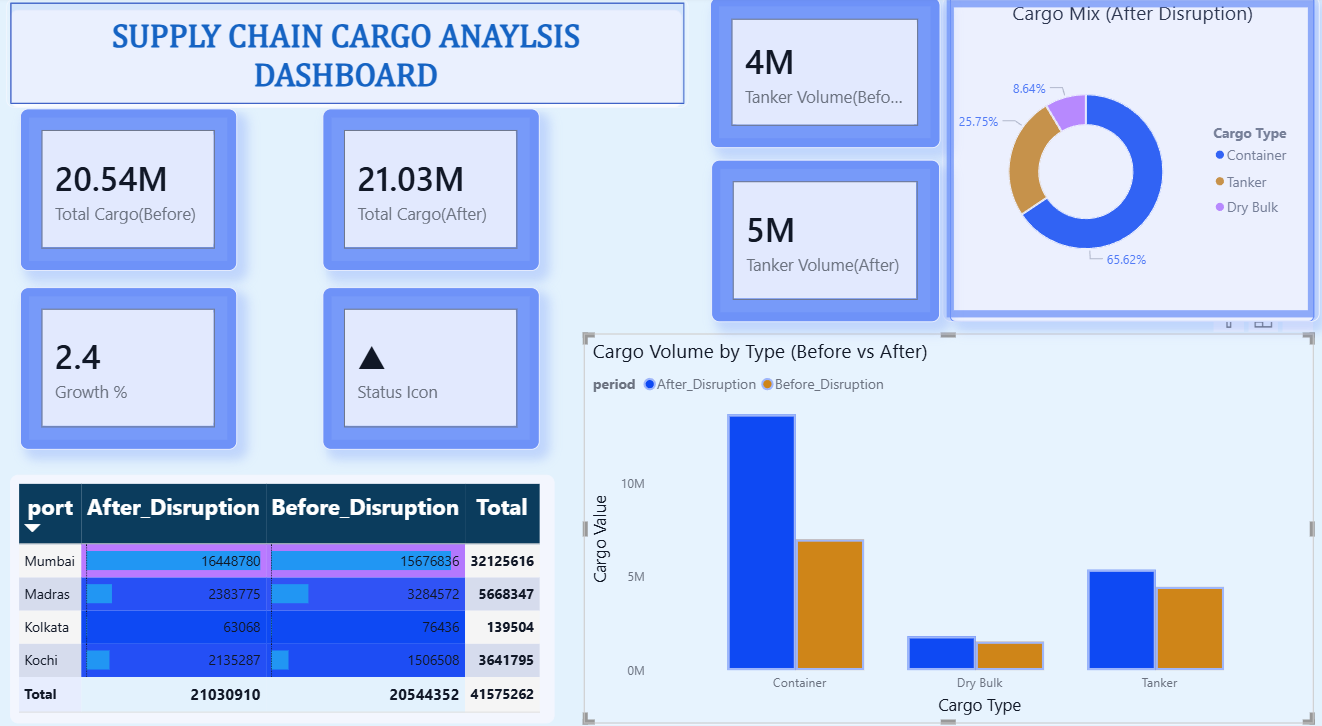

The dashboard page shown, as its layout file describes it:
{"tool":"powerbi","page":{"name":"SUPPLY CHAIN CARGO ANAYLSIS","canvas":[1280,720],"ordinal":0},"visuals":[{"type":"textbox","box":[9.6,13.7,649.1,94.7],"z":0},{"type":"cardVisual","fields":{"Data":["cargo powerbi_export.Total Before"]},"box":[19.2,108.4,209.9,156.4],"z":1000},{"type":"lineClusteredColumnComboChart","title":"Cargo Volume by Type (Before vs After)","fields":{"Category":["CargoTypes.Cargo Type"],"Y":["CargoTypes.Cargo Value"],"Series":["cargo powerbi_export.period"]},"box":[564,325.2,703.9,377.4],"z":2000},{"type":"pivotTable","fields":{"Rows":["cargo powerbi_export.port"],"Columns":["cargo powerbi_export.period"],"Values":["cargo powerbi_export.Total Cargo"]},"box":[9.6,462.4,525.6,240.1],"z":3000},{"type":"cardVisual","fields":{"Data":["cargo powerbi_export.Total After"]},"box":[311.5,108.4,209.9,156.4],"z":4000},{"type":"cardVisual","fields":{"Data":["cargo powerbi_export.Status Icon"]},"box":[311.5,281.3,209.9,156.4],"z":5000},{"type":"cardVisual","fields":{"Data":["cargo powerbi_export.Result %"]},"box":[19.2,281.3,209.9,156.4],"z":6000},{"type":"donutChart","title":"Cargo Mix (After Disruption)","fields":{"Y":["AfterCargoMix.Cargo Mix Value"],"Category":["AfterCargoMix.Cargo Type"]},"box":[916.6,0,351.3,314.2],"z":7000},{"type":"shape","box":[909.8,0,363.6,314.2],"z":8000},{"type":"cardVisual","fields":{"Data":["cargo powerbi_export.Tanker Before"]},"box":[684.7,1.4,222.3,145.5],"z":9000},{"type":"cardVisual","fields":{"Data":["cargo powerbi_export.Tanker After"]},"box":[686.1,157.8,220.9,156.4],"z":10000},{"type":"shape","box":[5.5,2.7,658.7,105.7],"z":11000}]}

Visuals, with their boxes in screenshot pixels (x1, y1, x2, y2), scaled from the page's 1280x720 canvas onto the 1322x726 screenshot:
textbox: rect(10, 14, 680, 109)
cardVisual - cargo powerbi_export.Total Before: rect(20, 109, 237, 267)
"Cargo Volume by Type (Before vs After)" lineClusteredColumnComboChart: rect(583, 328, 1310, 708)
pivotTable - cargo powerbi_export.port x cargo powerbi_export.period: rect(10, 466, 553, 708)
cardVisual - cargo powerbi_export.Total After: rect(322, 109, 539, 267)
cardVisual - cargo powerbi_export.Status Icon: rect(322, 284, 539, 441)
cardVisual - cargo powerbi_export.Result %: rect(20, 284, 237, 441)
"Cargo Mix (After Disruption)" donutChart: rect(947, 0, 1310, 317)
shape: rect(940, 0, 1315, 317)
cardVisual - cargo powerbi_export.Tanker Before: rect(707, 1, 937, 148)
cardVisual - cargo powerbi_export.Tanker After: rect(709, 159, 937, 317)
shape: rect(6, 3, 686, 109)
